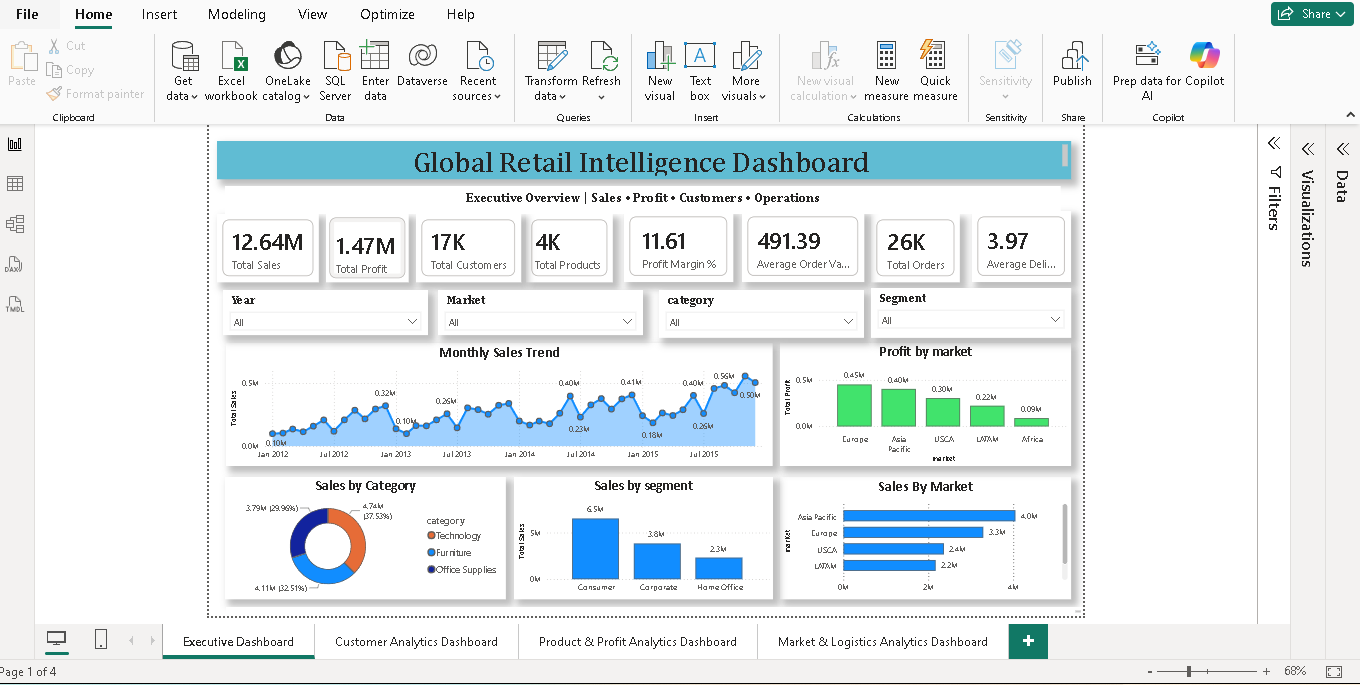

What the dashboard file says about the page in this screenshot:
{"tool":"powerbi","page":{"name":"Executive Dashboard","canvas":[1280,720],"ordinal":0},"visuals":[{"type":"cardVisual","fields":{"Data":["Measures (2).Total Sales"]},"box":[11.7,131.7,149.3,99.5],"z":0},{"type":"cardVisual","fields":{"Data":["Measures (2).Total Profit"]},"box":[171.2,131.7,121.5,99.5],"z":1000},{"type":"cardVisual","fields":{"Data":["Measures (2).Total Products"]},"box":[463.9,131.7,127.3,99.5],"z":2000},{"type":"cardVisual","fields":{"Data":["Measures (2).Total Orders"]},"box":[968.8,131.7,130.2,99.5],"z":3000},{"type":"cardVisual","fields":{"Data":["Measures (2).Total Customers"]},"box":[302.9,131.7,153.7,99.5],"z":4000},{"type":"cardVisual","fields":{"Data":["Measures (2).Profit Margin %"]},"box":[607.3,127.3,159.5,103.9],"z":5000},{"type":"cardVisual","fields":{"Data":["Measures (2).Average Order Value"]},"box":[780,127.3,178.5,103.9],"z":6000},{"type":"cardVisual","fields":{"Data":["Measures (2).Average Delivery Days"]},"box":[1116.6,127.3,144.9,103.9],"z":7000},{"type":"textbox","box":[11.7,24.9,1249.8,55.6],"z":8000},{"type":"textbox","box":[23.4,90.7,1223.4,41],"z":9000},{"type":"clusteredBarChart","title":"Sales By Market","fields":{"Category":["Orders.market"],"Y":["Measures (2).Total Sales"]},"box":[835.6,516.6,425.9,178.5],"z":10000},{"type":"lineChart","title":"Monthly Sales Trend","fields":{"Y":["Measures (2).Total Sales"],"Category":["Orders.order_date.Variation.Date Hierarchy.Year","Orders.order_date.Variation.Date Hierarchy.Month"]},"box":[24.9,320.5,800.5,180],"z":11000},{"type":"donutChart","title":"Sales by Category","fields":{"Category":["Orders.category"],"Y":["Measures (2).Total Sales"]},"box":[23.4,516.6,411.2,178.5],"z":12000},{"type":"clusteredColumnChart","title":"Sales by segment","fields":{"Category":["Orders.segment"],"Y":["Measures (2).Total Sales"]},"box":[446.3,516.6,379,178.5],"z":13000},{"type":"clusteredColumnChart","title":"Profit by market","fields":{"Category":["Orders.market"],"Y":["Measures (2).Total Profit"]},"box":[835.6,320.5,425.9,180],"z":14000},{"type":"slicer","fields":{"Values":["Orders.order_year"]},"box":[20.5,242.9,300,65.9],"z":15000},{"type":"slicer","fields":{"Values":["Orders.market"]},"box":[335.1,242.9,300,65.9],"z":16000},{"type":"slicer","fields":{"Values":["Orders.category"]},"box":[658.5,242.9,300,70.2],"z":17000},{"type":"slicer","fields":{"Values":["Orders.segment"]},"box":[968.8,240,292.7,73.2],"z":18000},{"type":"textbox","box":[24.9,706.8,1255.6,13.2],"z":19000}]}

Visuals, with their boxes on the page's 1280x720 design canvas (x1, y1, x2, y2). These are canvas units, not pixel positions in the 1360x685 screenshot, which may show the page scaled, cropped or inside an application window:
cardVisual - Measures (2).Total Sales: 12, 132, 161, 231
cardVisual - Measures (2).Total Profit: 171, 132, 293, 231
cardVisual - Measures (2).Total Products: 464, 132, 591, 231
cardVisual - Measures (2).Total Orders: 969, 132, 1099, 231
cardVisual - Measures (2).Total Customers: 303, 132, 457, 231
cardVisual - Measures (2).Profit Margin %: 607, 127, 767, 231
cardVisual - Measures (2).Average Order Value: 780, 127, 958, 231
cardVisual - Measures (2).Average Delivery Days: 1117, 127, 1262, 231
textbox: 12, 25, 1262, 80
textbox: 23, 91, 1247, 132
"Sales By Market" clusteredBarChart: 836, 517, 1262, 695
"Monthly Sales Trend" lineChart: 25, 320, 825, 500
"Sales by Category" donutChart: 23, 517, 435, 695
"Sales by segment" clusteredColumnChart: 446, 517, 825, 695
"Profit by market" clusteredColumnChart: 836, 320, 1262, 500
slicer - Orders.order_year: 20, 243, 320, 309
slicer - Orders.market: 335, 243, 635, 309
slicer - Orders.category: 658, 243, 958, 313
slicer - Orders.segment: 969, 240, 1262, 313
textbox: 25, 707, 1280, 720
